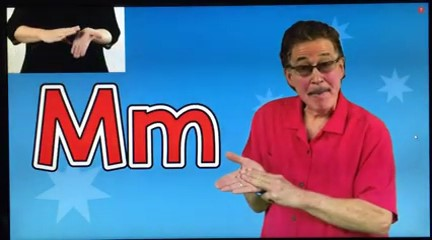M: (207, 144, 304, 215)
